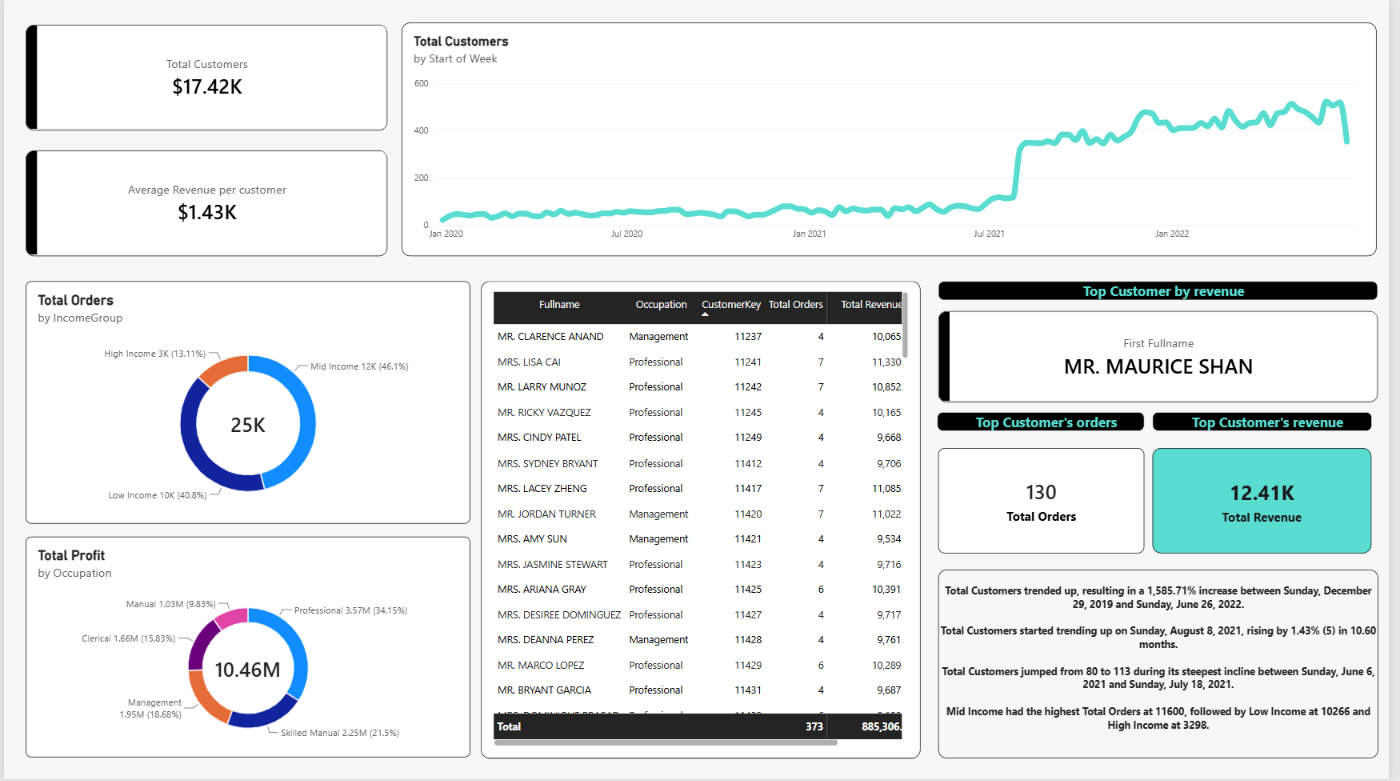

The dashboard page shown, as its layout file describes it:
{"tool":"powerbi","page":{"name":"Customer ","canvas":[1920,1080],"ordinal":2},"visuals":[{"type":"cardVisual","fields":{"Data":["Measure.Total Customers"]},"box":[29.8,34,502.1,146.8],"z":0},{"type":"cardVisual","fields":{"Data":["Measure.Average Revenue per customer"]},"box":[29.8,208.5,502.1,146.8],"z":1000},{"type":"donutChart","fields":{"Category":["Dim_Customer Lookup.IncomeGroup"],"Y":["Measure.Total Orders"]},"box":[29.8,389.4,617,336.2],"z":2000},{"type":"donutChart","fields":{"Category":["Dim_Customer Lookup.Occupation"],"Y":["Measure.Total Profit"]},"box":[29.8,744.7,617,306.4],"z":3000},{"type":"lineChart","fields":{"Category":["Dim_Calendar Lookup.Date1 Hierarchy.Year","Dim_Calendar Lookup.Date1 Hierarchy.Start of Quarter","Dim_Calendar Lookup.Date1 Hierarchy.Start of Month","Dim_Calendar Lookup.Date1 Hierarchy.Start of Week","Dim_Calendar Lookup.Date1 Hierarchy.Date"],"Y":["Measure.Total Customers"]},"box":[552,32,1352,324],"z":4000},{"type":"tableEx","fields":{"Values":["Dim_Customer Lookup.Fullname","Dim_Customer Lookup.Occupation","Dim_Customer Lookup.CustomerKey","Measure.Total Orders","Measure.Total Revenue","Measure.Total Profit"]},"box":[661.7,390,610,661.7],"z":5000},{"type":"cardVisual","fields":{"Data":["Min(Dim_Customer Lookup.Fullname)"]},"box":[1295.6,431.1,610,126.7],"z":6000},{"type":"card","fields":{"Values":["Measure.Total Orders"]},"box":[1295.8,621.7,286,146],"z":7000},{"type":"card","fields":{"Values":["Measure.Total Revenue"]},"box":[1592.5,621.7,304,146],"z":8000},{"type":"textbox","box":[1295.7,789.4,610.6,261.7],"z":9000},{"type":"textbox","box":[1295.8,390,610,26.7],"z":10000},{"type":"textbox","box":[1294.2,571.7,287.5,26.7],"z":11000},{"type":"textbox","box":[1592.5,571.7,304.2,26.7],"z":12000}]}

Visuals, with their boxes in screenshot pixels (x1, y1, x2, y2), scaled from the page's 1920x1080 canvas onto the 1400x781 screenshot:
cardVisual - Measure.Total Customers: <box>22,25,388,131</box>
cardVisual - Measure.Average Revenue per customer: <box>22,151,388,257</box>
donutChart - Dim_Customer Lookup.IncomeGroup x Measure.Total Orders: <box>22,282,472,525</box>
donutChart - Dim_Customer Lookup.Occupation x Measure.Total Profit: <box>22,539,472,760</box>
lineChart - Dim_Calendar Lookup.Date1 Hierarchy.Year x Dim_Calendar Lookup.Date1 Hierarchy.Start of Quarter: <box>402,23,1388,257</box>
tableEx - Dim_Customer Lookup.Fullname x Dim_Customer Lookup.Occupation: <box>482,282,927,761</box>
cardVisual - Min(Dim_Customer Lookup.Fullname): <box>945,312,1389,403</box>
card - Measure.Total Orders: <box>945,450,1153,555</box>
card - Measure.Total Revenue: <box>1161,450,1383,555</box>
textbox: <box>945,571,1390,760</box>
textbox: <box>945,282,1390,301</box>
textbox: <box>944,413,1153,433</box>
textbox: <box>1161,413,1383,433</box>
